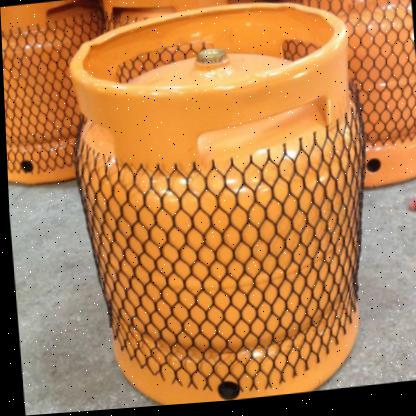gas-tank: (51, 0, 381, 412), (269, 0, 415, 207), (0, 0, 124, 207), (89, 0, 280, 80)
